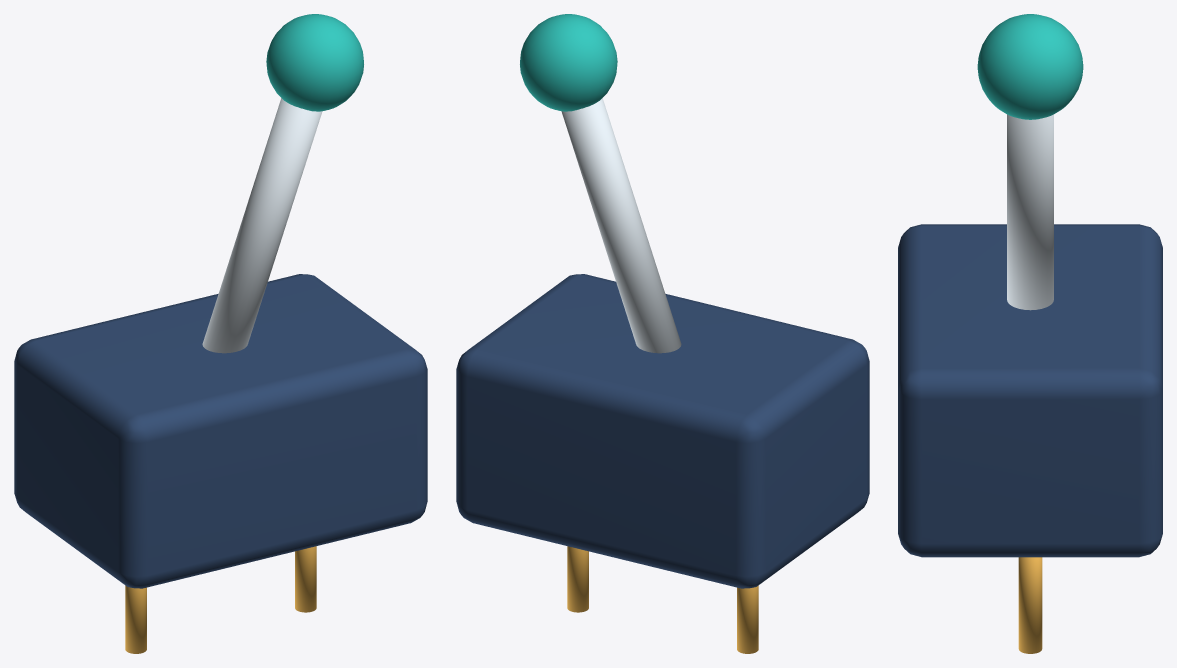
Rendered from toggle-switch-quality.glb.
3 views of the same model, side by side, from view 1: azimuth 30°, elevation 25°; view 2: azimuth 150°, elevation 25°; view 3: azimuth 270°, elevation 25° (orthographic). The views are drawn at different scales.
Parts seen in each view (by area): view 1: Switch body; view 2: Switch body; view 3: Switch body.
Boxes of the visible parts, x1,y1,x2,y2 form: Switch body: (14,14,427,653); Switch body: (456,14,869,653); Switch body: (898,14,1162,653).
Bounding box in the file's own units: 0.65 × 1.19 × 0.45.
